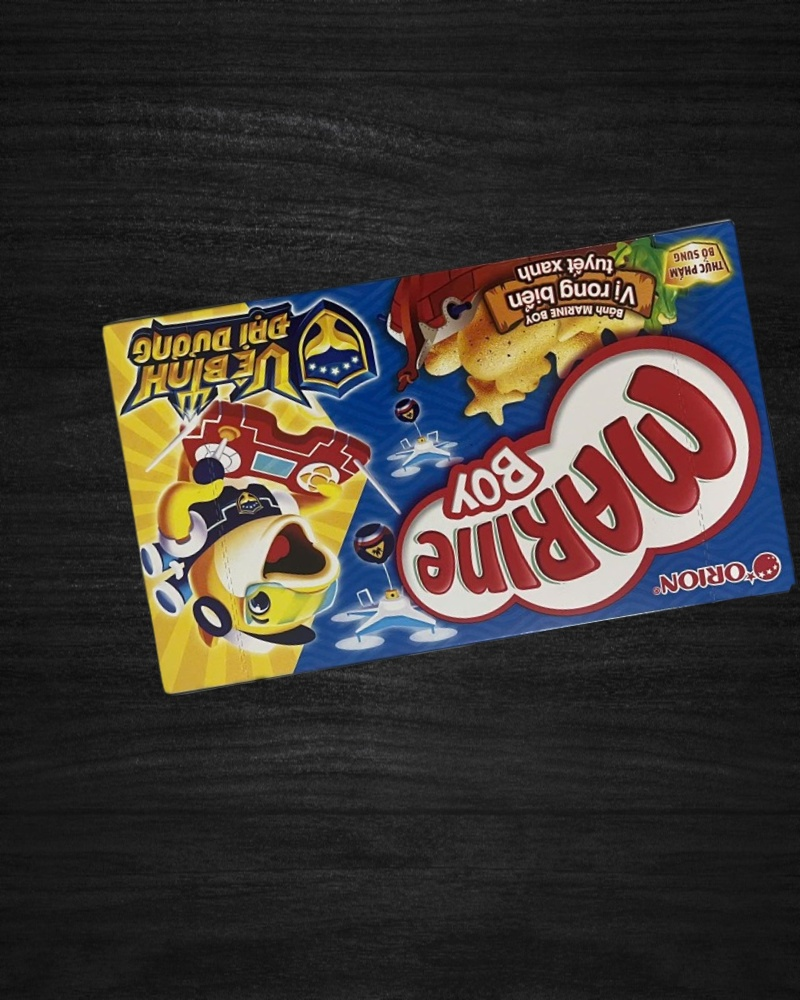Marine: (98, 213, 800, 702)
